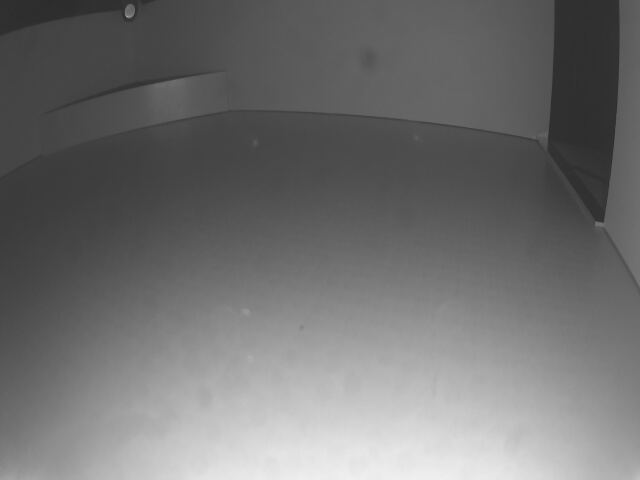Red: (36, 72, 228, 158)
